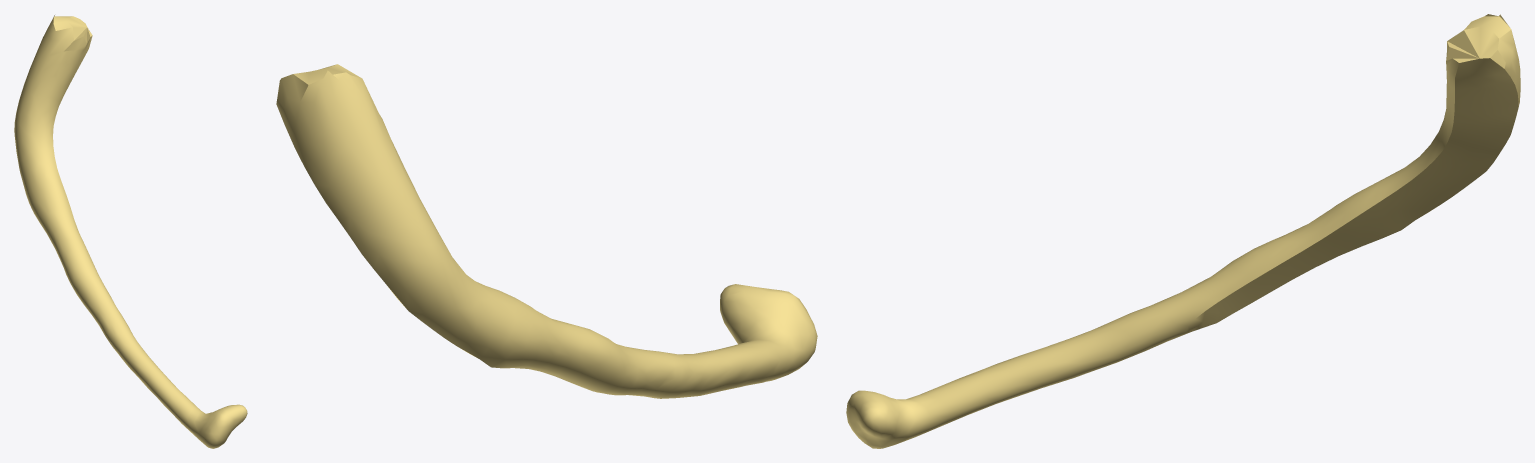
Rendered from fma72854_mm2850m.glb.
The picture shows the model from 3 angles, left to right: view 1: azimuth 30°, elevation 25°; view 2: azimuth 150°, elevation 25°; view 3: azimuth 270°, elevation 25°; orthographic projection. The views are drawn at different scales.
Visible parts, largest first — view 1: FMA72854_MM2850M; view 2: FMA72854_MM2850M; view 3: FMA72854_MM2850M.
Part boxes in pixels (bbox=[...]): FMA72854_MM2850M: bbox=[14, 15, 247, 448]; FMA72854_MM2850M: bbox=[276, 64, 817, 398]; FMA72854_MM2850M: bbox=[846, 14, 1520, 448].
Size of the model in its own units: 0.00846 by 0.0249 by 0.0331.
